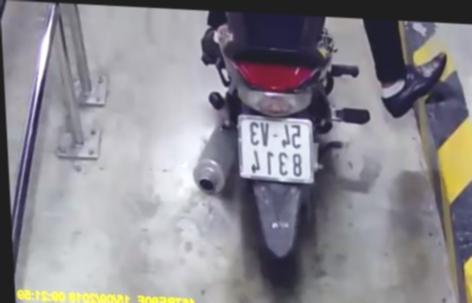License_Plate: (229, 111, 320, 190)
